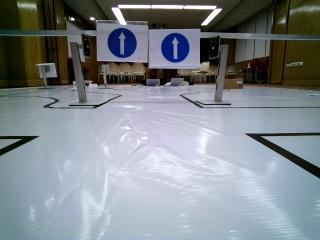straight: (99, 20, 148, 61), (148, 29, 201, 66)
